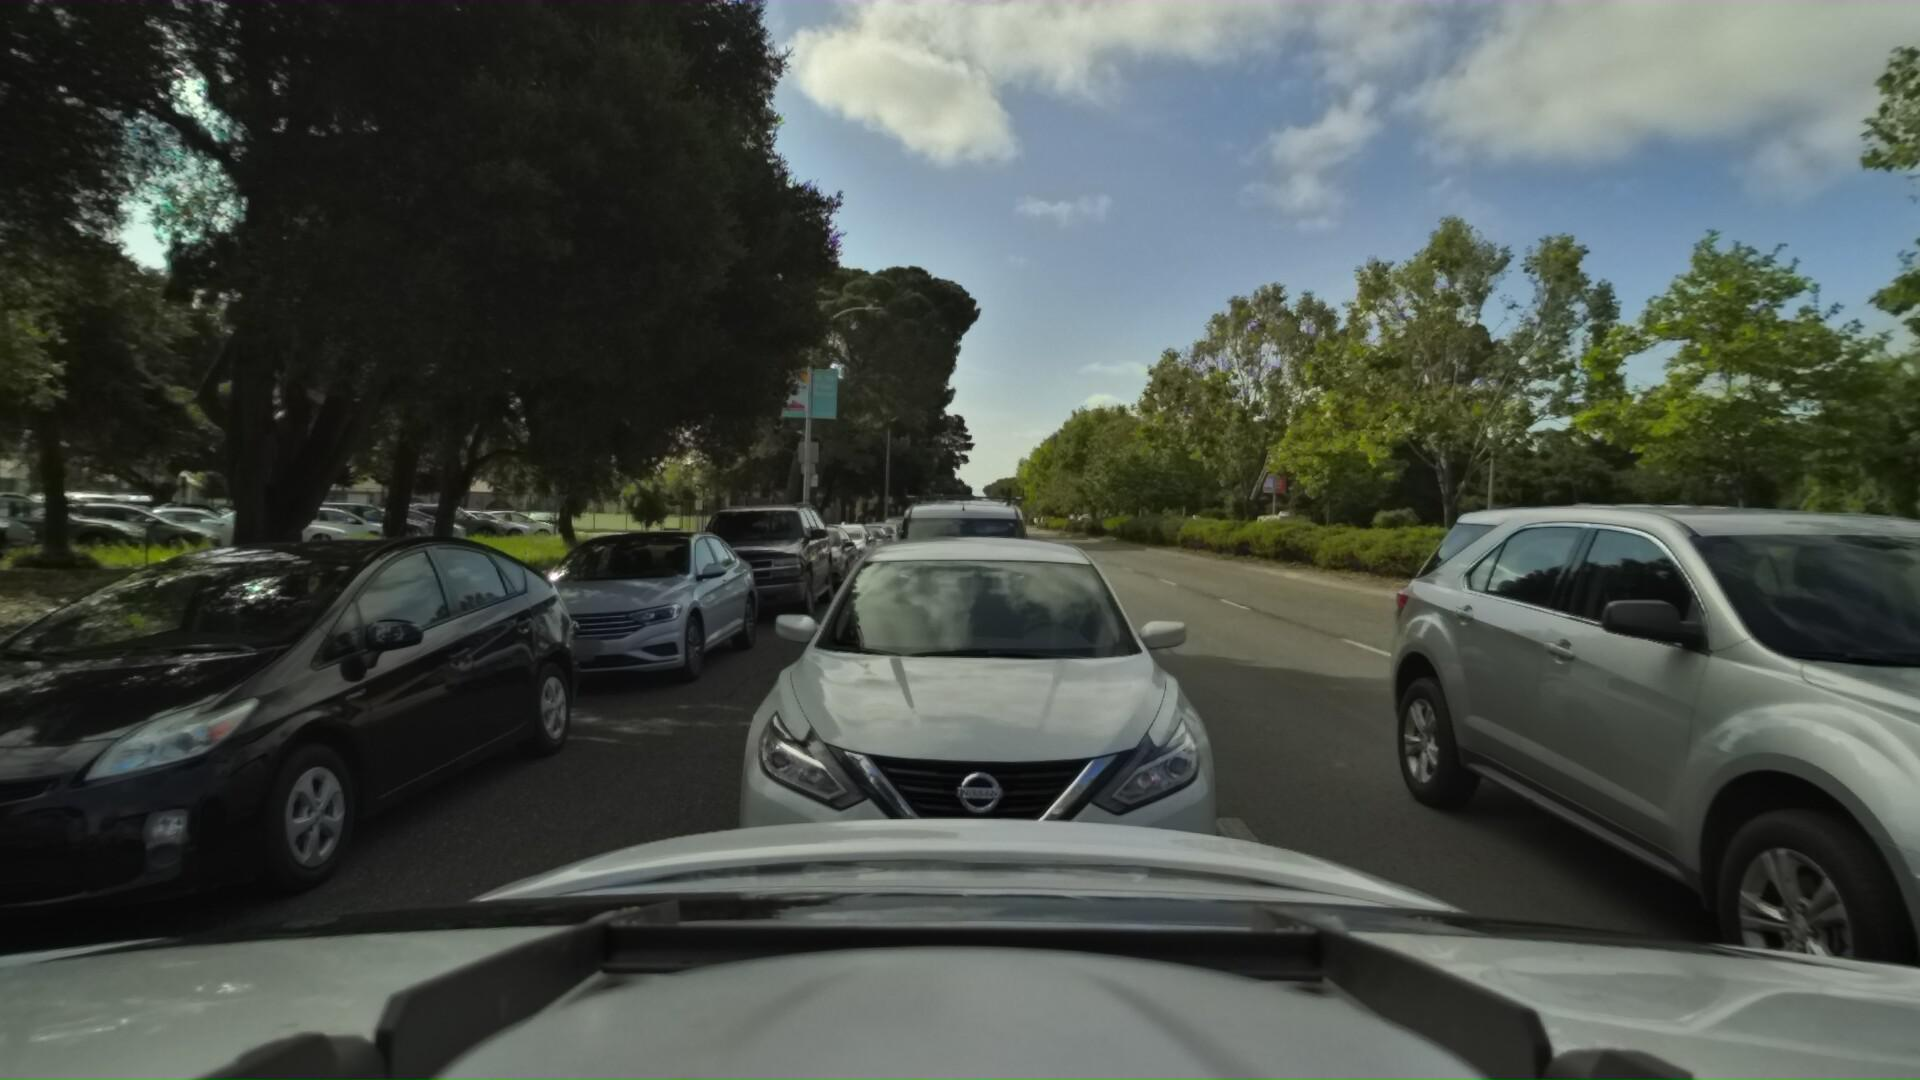bicycle: (844, 506, 870, 549)
car: (1344, 422, 1920, 1080), (662, 520, 1273, 1050), (0, 520, 608, 1006), (454, 520, 773, 702), (866, 465, 1042, 665), (659, 487, 840, 629), (884, 502, 986, 596), (758, 513, 862, 593), (793, 512, 884, 576), (833, 516, 895, 562), (848, 514, 907, 558), (873, 506, 919, 543)
other_vehicle: (1251, 502, 1313, 535), (1916, 504, 1920, 634)
